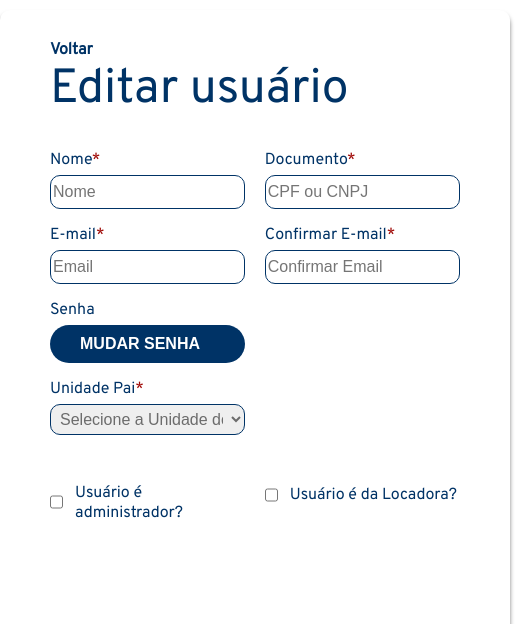
it: EditUserForm › should enable child workstations combobox
Select "1" in the dropdown with test id "unidadePai" at (147,419), box [50,404,245,435]
Select "1" in the dropdown with test id "unidadePai" at (147,419), box [50,404,245,435]
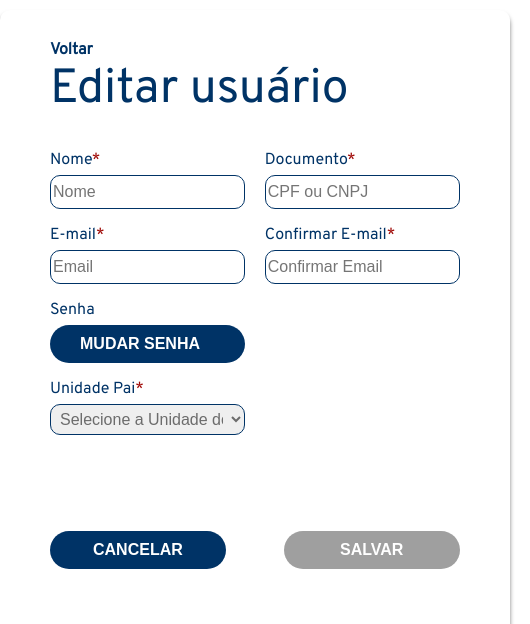
Select "unidade1" in the dropdown with test id "unidadePai" at (147,419), box [50,404,245,435]
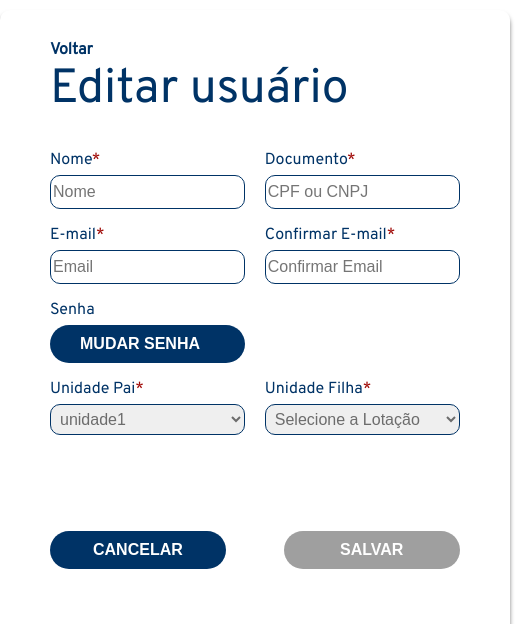
Result: the dropdown with test id "unidadeFilha" is shown at [265,404,460,435]
